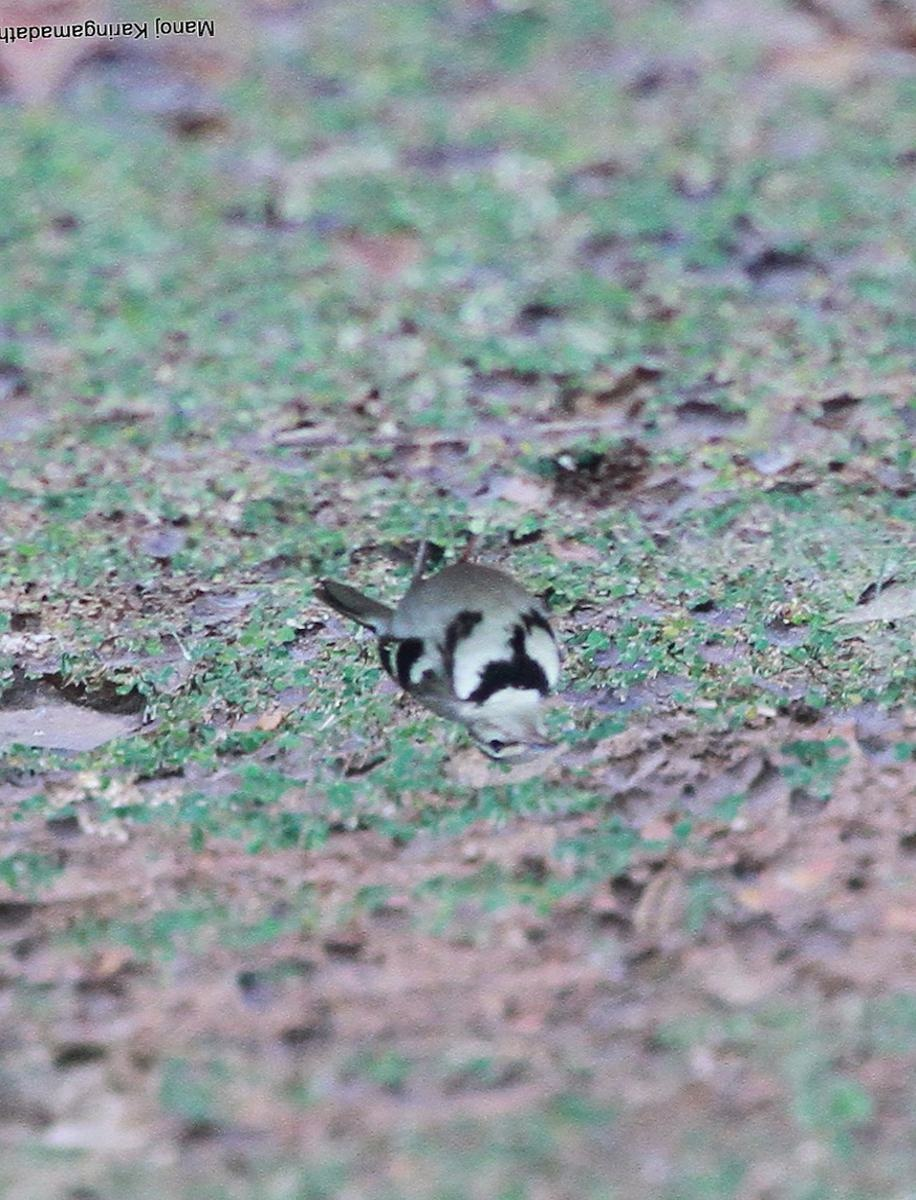wagtail: (336, 496, 612, 783)
